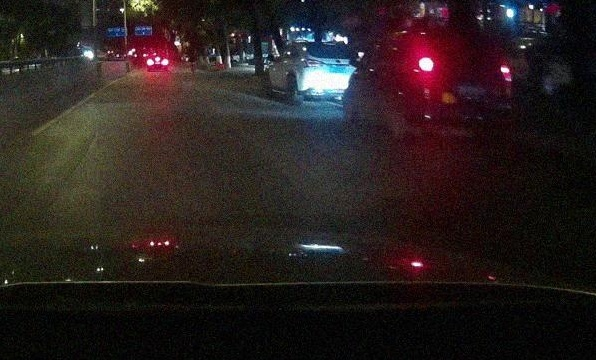L_light: (418, 56, 434, 72)
R_light: (500, 64, 512, 81)
T_light: (453, 37, 470, 40)
night-left: (415, 34, 513, 136)
